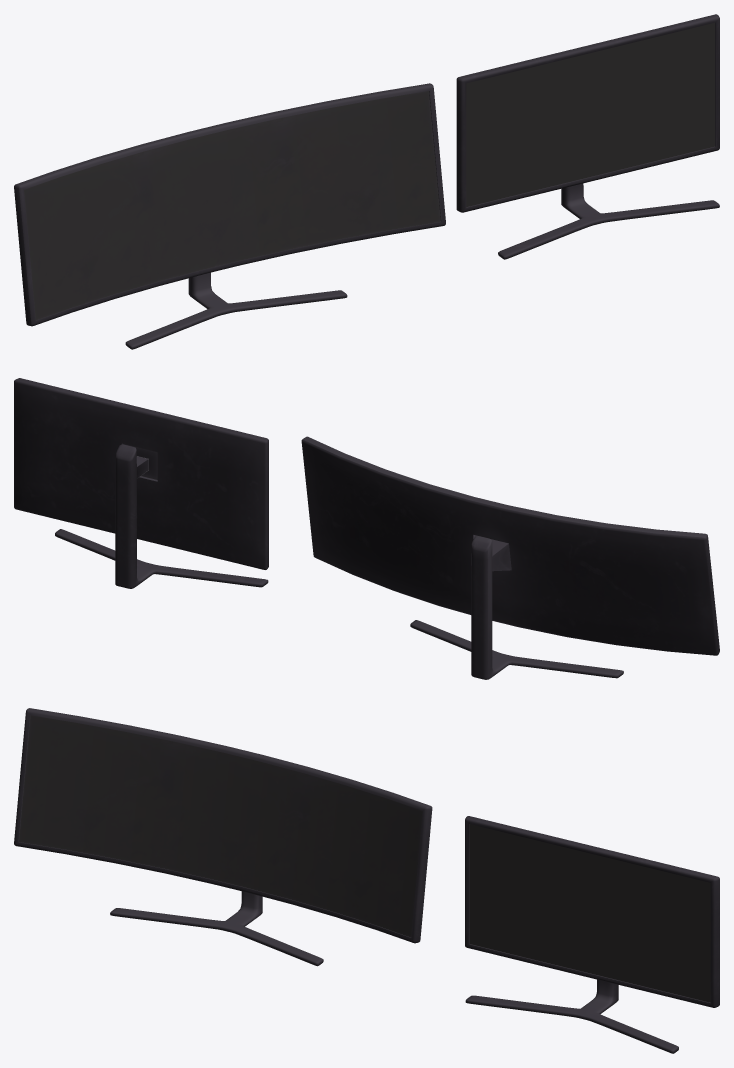
The picture shows the model from 3 angles, top to bottom: view 1: azimuth 30°, elevation 25°; view 2: azimuth 150°, elevation 25°; view 3: azimuth 330°, elevation 25°; orthographic projection. The views are drawn at different scales.
Parts seen in each view (by area): view 1: SM_widescreen_monitor_1, SM_standard_monitor_5, SM_widescreen_stand_2, SM_standard_monitor_stand_4; view 2: SM_widescreen_monitor_1, SM_standard_monitor_5, SM_standard_monitor_stand_4, SM_widescreen_stand_2; view 3: SM_widescreen_monitor_1, SM_standard_monitor_5, SM_widescreen_stand_2, SM_standard_monitor_stand_4.
Boxes of the visible parts, x1,y1,x2,y2 form: SM_widescreen_monitor_1: [14, 83, 445, 326]; SM_standard_monitor_5: [456, 14, 719, 212]; SM_widescreen_stand_2: [125, 272, 347, 349]; SM_standard_monitor_stand_4: [498, 183, 719, 259]; SM_widescreen_monitor_1: [301, 436, 719, 655]; SM_standard_monitor_5: [14, 378, 268, 569]; SM_standard_monitor_stand_4: [55, 444, 268, 588]; SM_widescreen_stand_2: [410, 536, 623, 679]; SM_widescreen_monitor_1: [14, 708, 432, 943]; SM_standard_monitor_5: [465, 816, 719, 1007]; SM_widescreen_stand_2: [110, 891, 323, 966]; SM_standard_monitor_stand_4: [465, 979, 678, 1053].
Size of the model in its own units: 2.03 by 0.4888 by 0.2281.
Materials: 2 (2 with a texture image).
